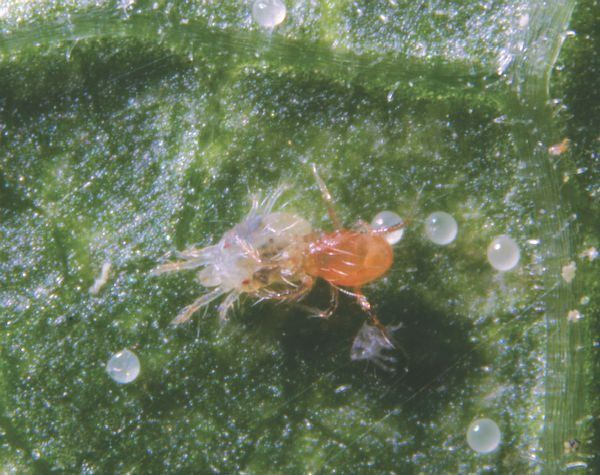Mites: (173, 194, 306, 349), (288, 185, 390, 323)
